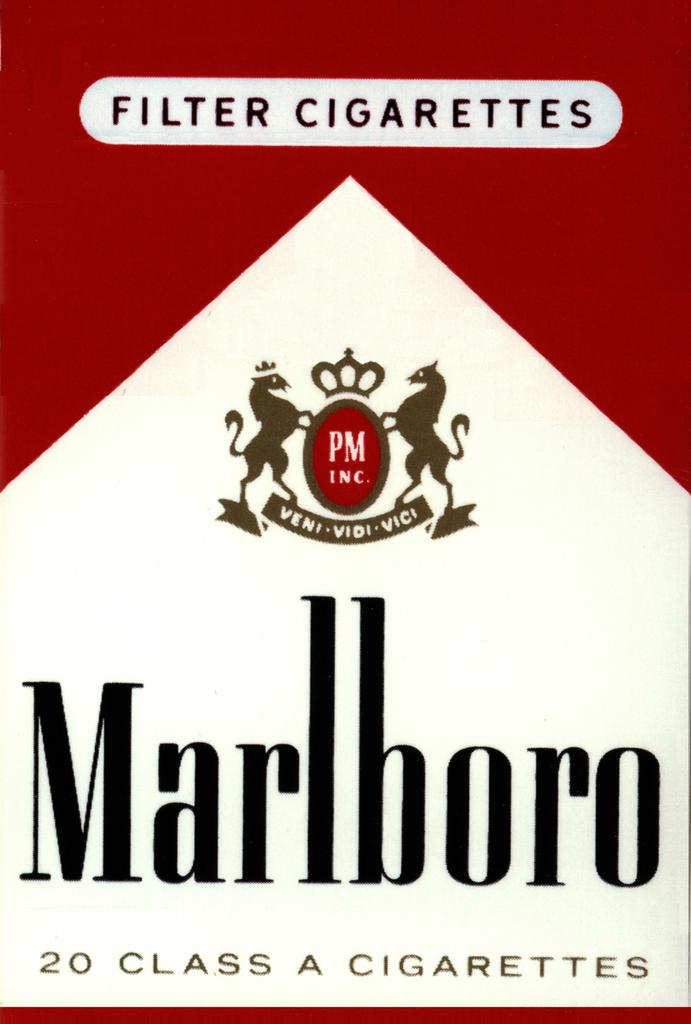marlboro_red: (3, 5, 690, 1024)
